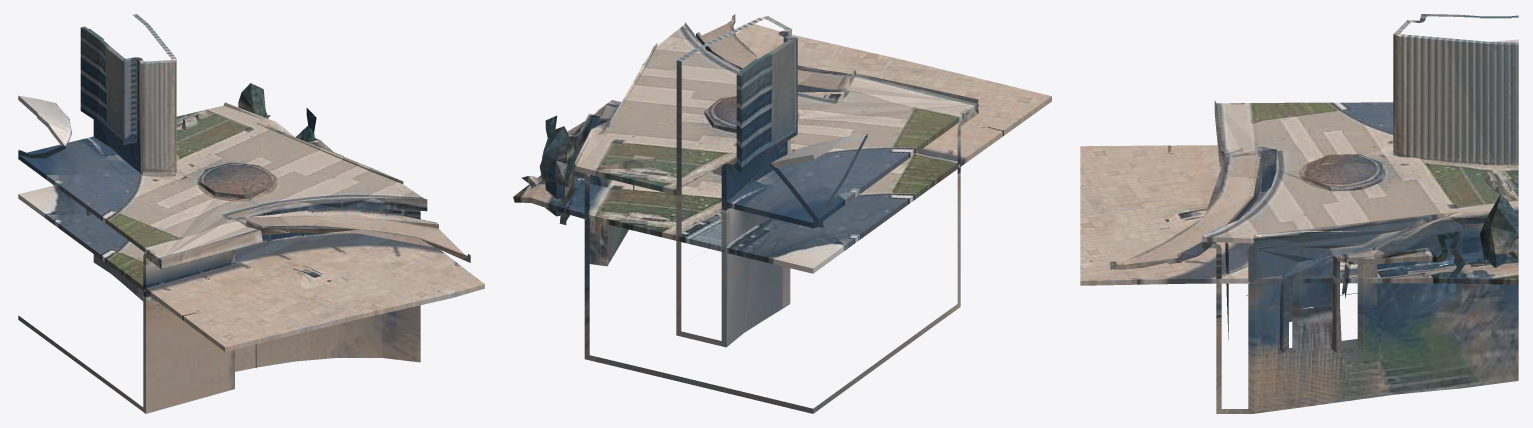
Rendered from chunk_-6_7.glb.
The picture shows the model from 3 angles, left to right: view 1: azimuth 30°, elevation 25°; view 2: azimuth 150°, elevation 25°; view 3: azimuth 270°, elevation 25°; orthographic projection. The views are drawn at different scales.
Parts seen in each view (by area): view 1: hero-chunk; view 2: hero-chunk; view 3: hero-chunk.
Part boxes in pixels (x1,y1,x2,y2): hero-chunk: (18,14,484,413); hero-chunk: (513,14,1051,413); hero-chunk: (1080,14,1518,413).
Size of the model in its own units: 56.35 by 56.89 by 76.33.
1 material, 1 textured.
